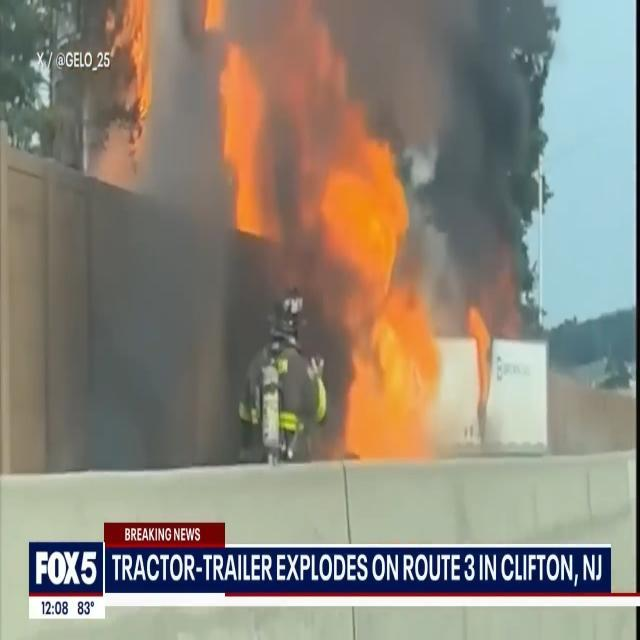fire: (326, 112, 447, 454), (213, 24, 268, 217), (119, 0, 174, 121), (203, 0, 226, 36)
